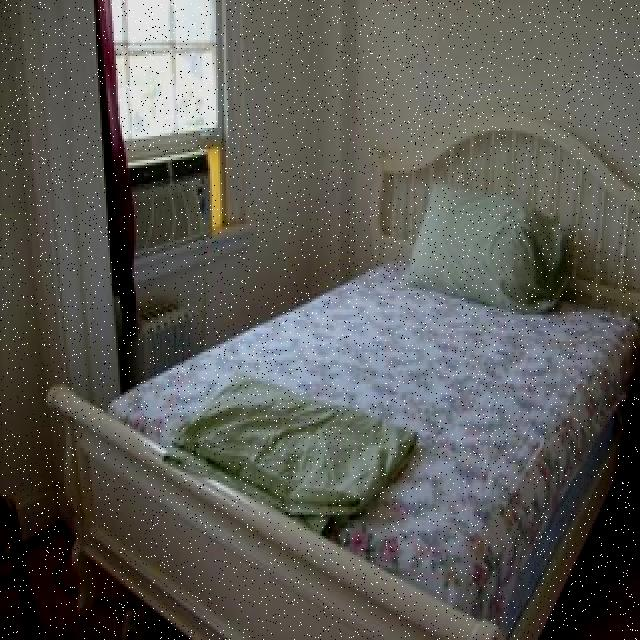bed: (58, 109, 640, 627)
